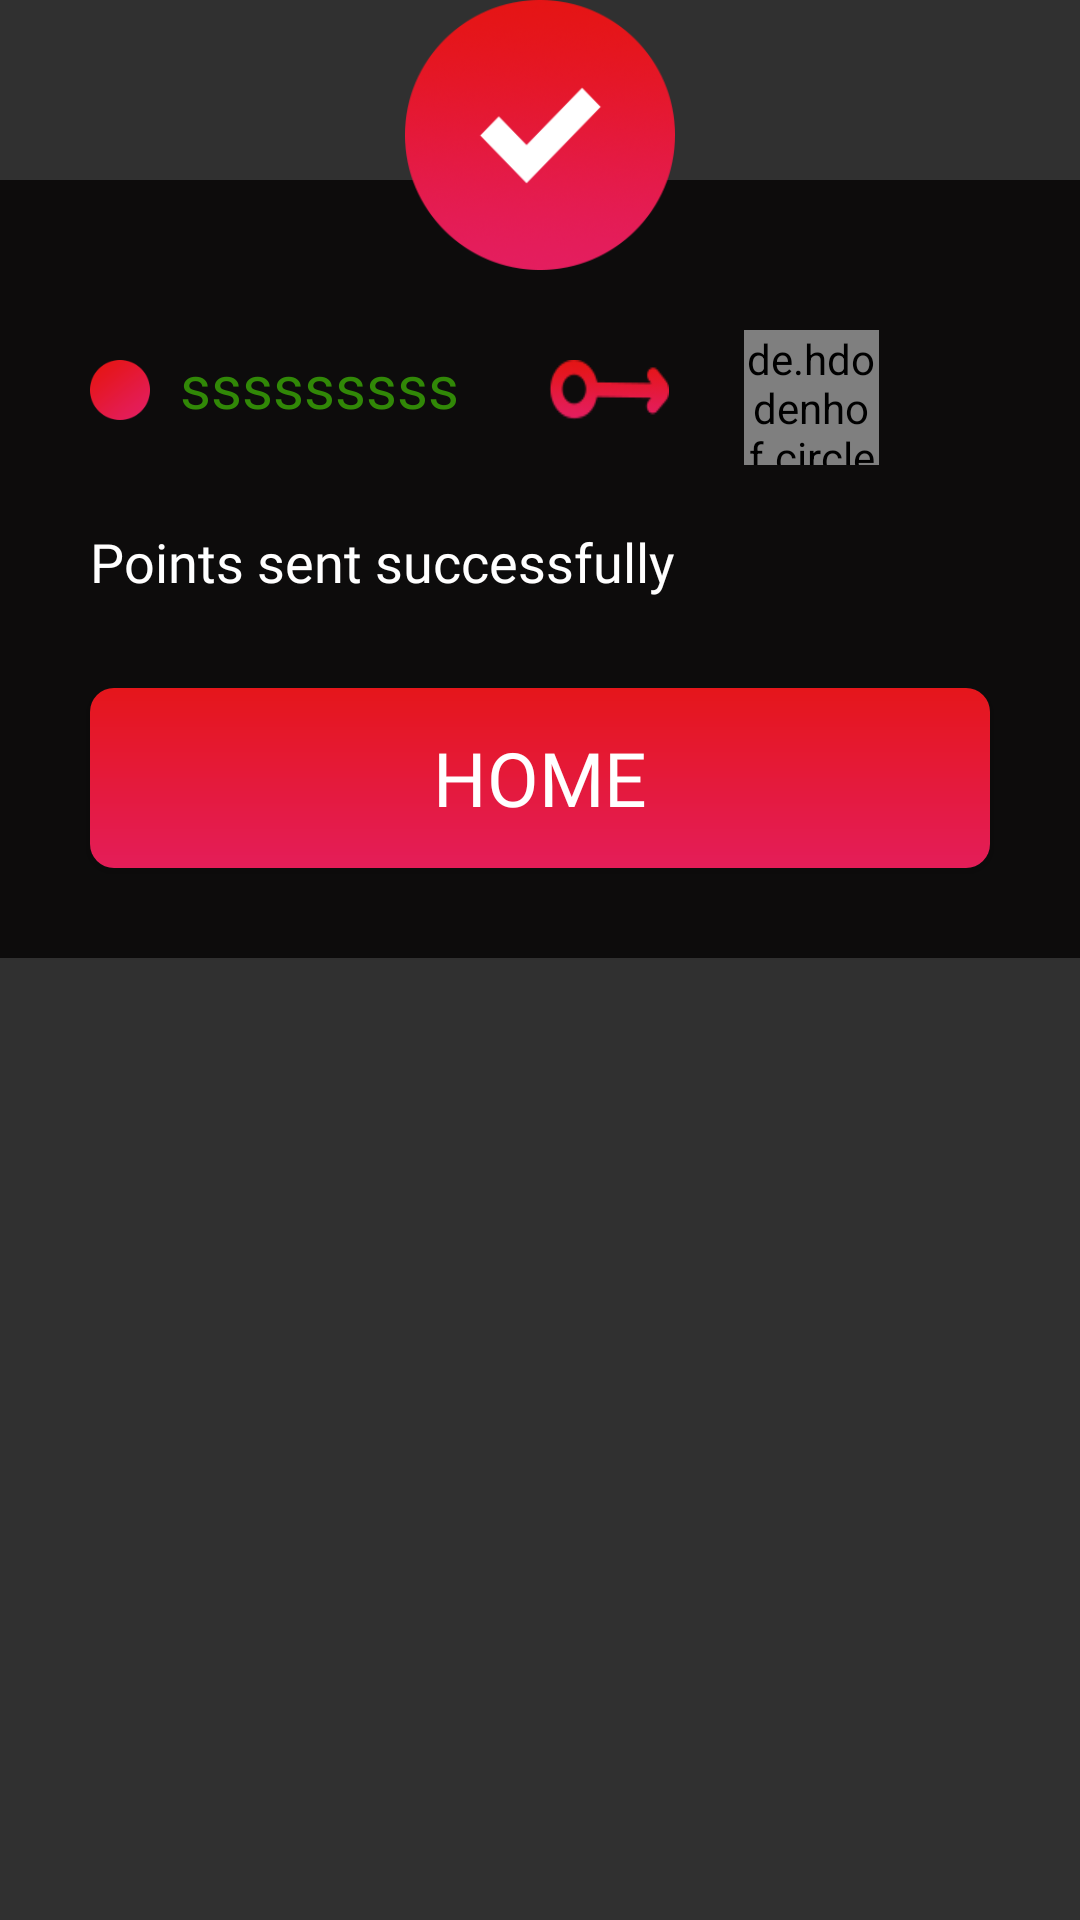

Named icons in this screenshot (1080w x 1920h) and their centers, (x=x, y=y):
done: (x=540, y=135)
